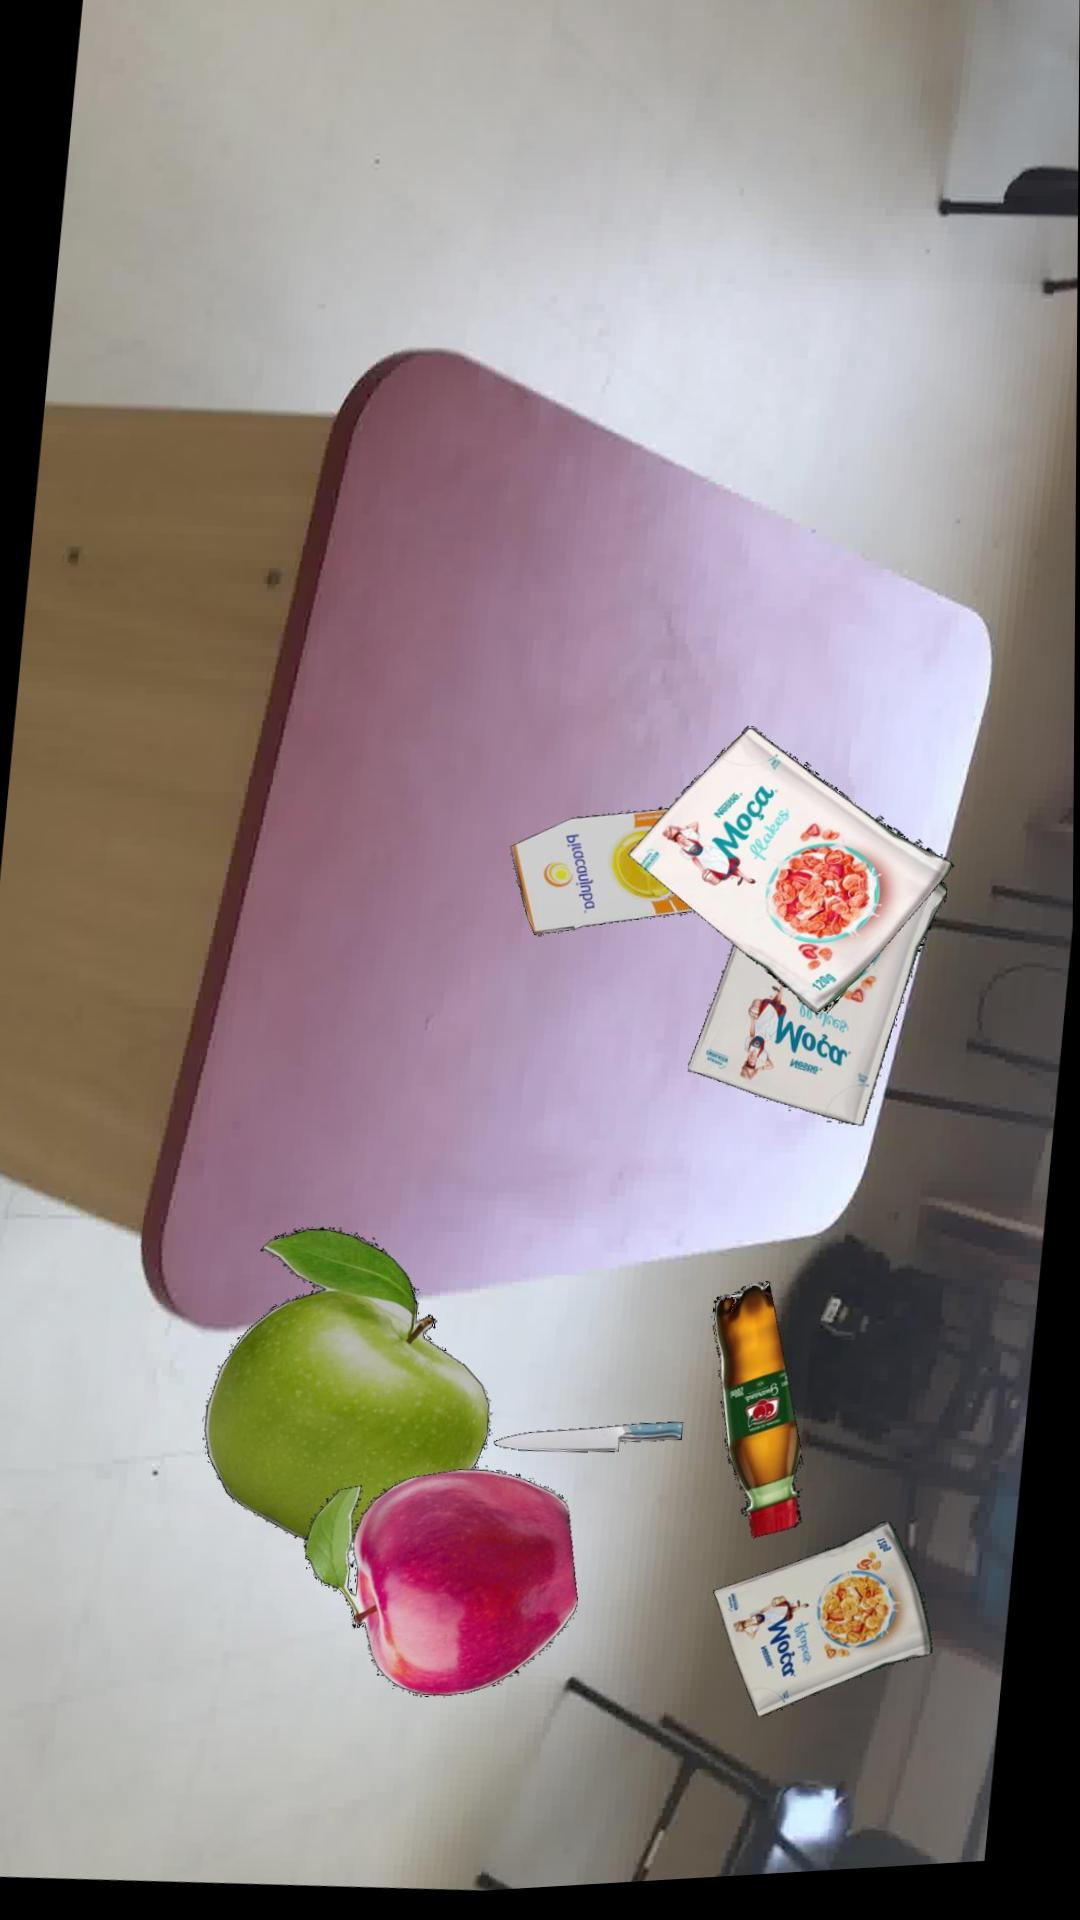apple: (303, 1473, 578, 1700)
corn flakes: (626, 736, 953, 1023), (687, 890, 945, 1134), (713, 1530, 932, 1724)
green apple: (204, 1229, 489, 1542)
guarana: (712, 1290, 802, 1545)
knife: (493, 1428, 683, 1457)
